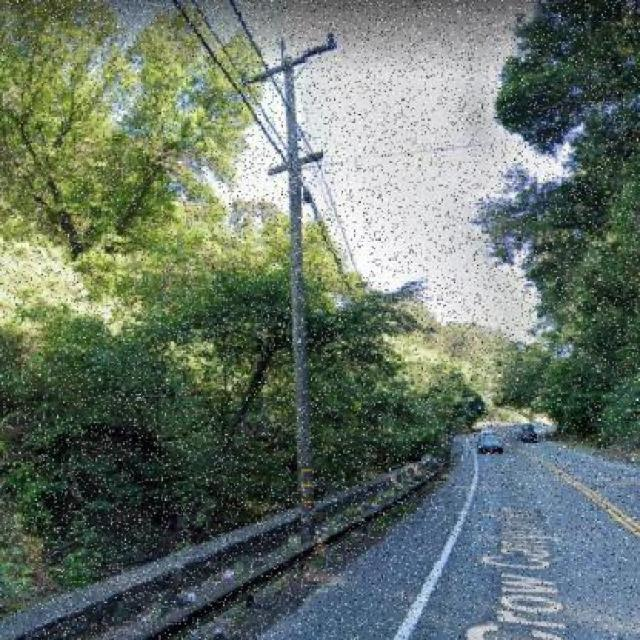pole: (224, 23, 344, 572)
